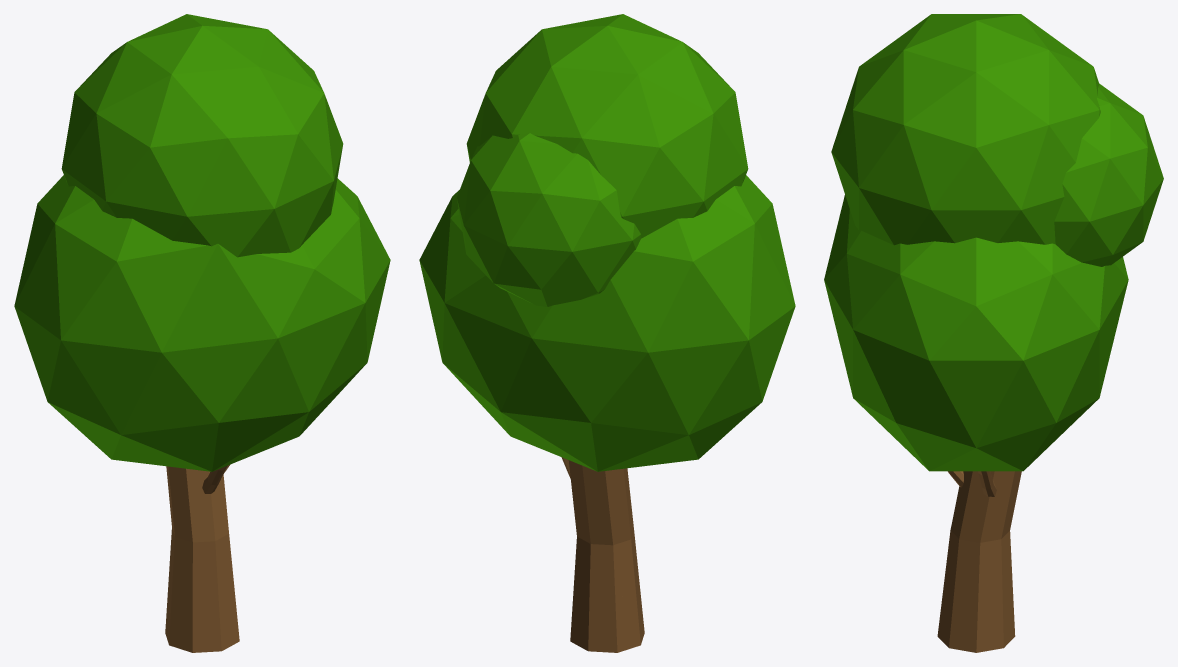
File: Tree1.glb
3 views of the same model, side by side, from view 1: azimuth 30°, elevation 25°; view 2: azimuth 150°, elevation 25°; view 3: azimuth 270°, elevation 25° (orthographic).
Visible parts, largest first — view 1: Icosphere, penek; view 2: Icosphere, penek; view 3: Icosphere, penek.
Boxes of the visible parts, x1,y1,x2,y2 form: Icosphere: [14, 14, 390, 597]; penek: [165, 581, 239, 652]; Icosphere: [419, 14, 795, 598]; penek: [570, 582, 644, 652]; Icosphere: [824, 14, 1163, 597]; penek: [937, 584, 1015, 652].
Bounding box in the file's own units: 3.8 × 6.74 × 3.37.
